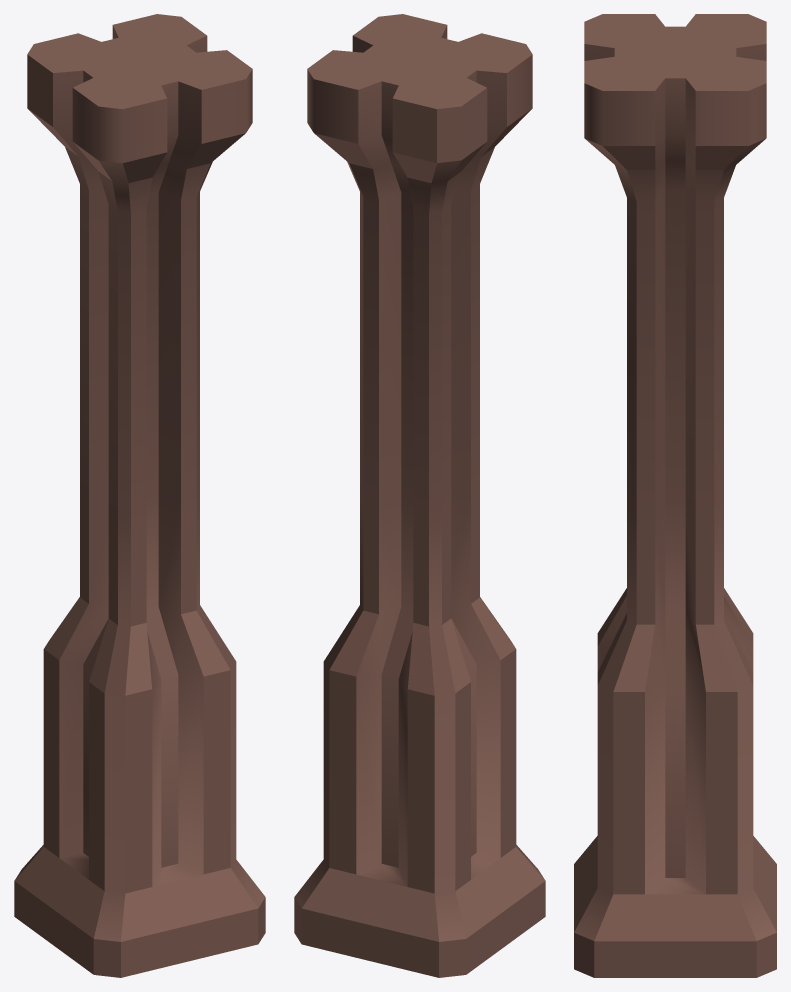
Rendered from Gale_Pillar_01_snaps002 (18).fbx.
3 renders of one model, left to right at view 1: azimuth 30°, elevation 25°; view 2: azimuth 150°, elevation 25°; view 3: azimuth 270°, elevation 25°, orthographic. The views are drawn at different scales.
Parts seen in each view (by area): view 1: Gale_Pillar_01_snaps002__18_; view 2: Gale_Pillar_01_snaps002__18_; view 3: Gale_Pillar_01_snaps002__18_.
Boxes of the visible parts, <box> form: Gale_Pillar_01_snaps002__18_: <box>14,14,265,977</box>; Gale_Pillar_01_snaps002__18_: <box>294,14,545,977</box>; Gale_Pillar_01_snaps002__18_: <box>574,14,776,977</box>.
Bounding box in the file's own units: 87.5 × 420 × 87.5.
